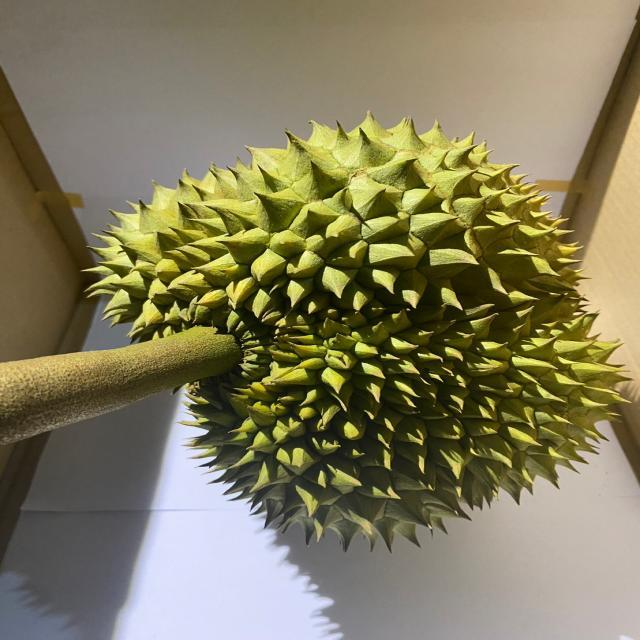immature: (78, 108, 633, 556)
